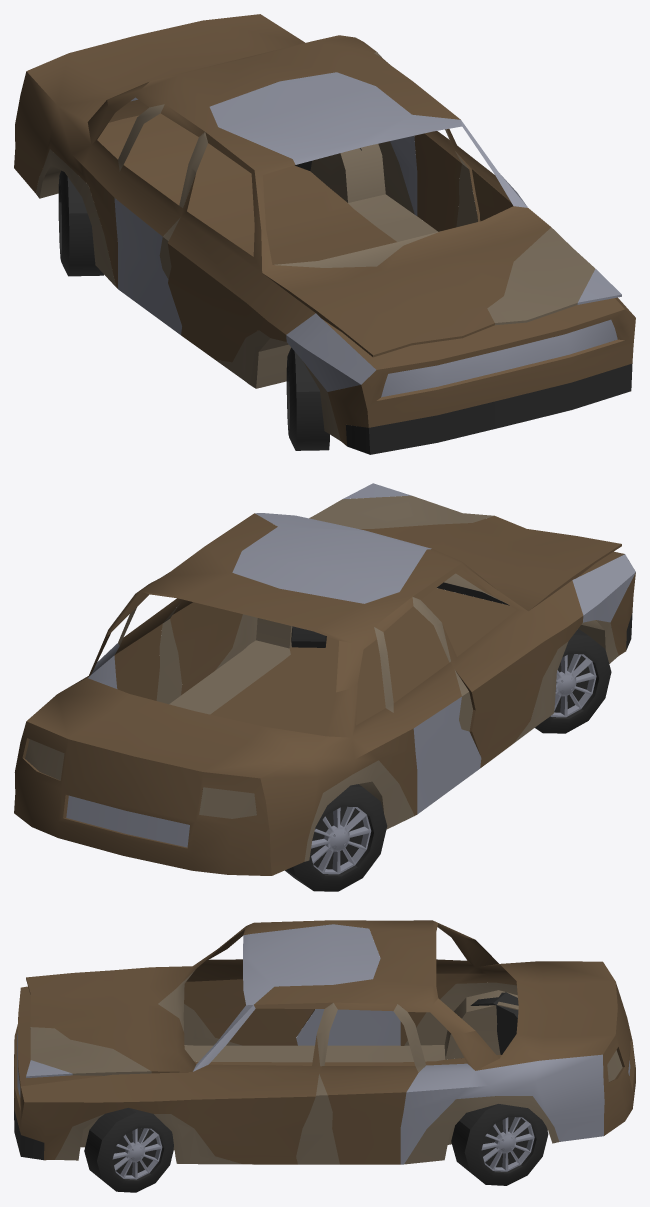
The model's file is Debris_BrokenCar.glb.
3 views of the same model, one above another, from view 1: azimuth 30°, elevation 25°; view 2: azimuth 150°, elevation 25°; view 3: azimuth 270°, elevation 25° (orthographic). The views are drawn at different scales.
Visible parts, largest first — view 1: Debris_BrokenCar; view 2: Debris_BrokenCar; view 3: Debris_BrokenCar.
Part boxes in pixels (x1=…): Debris_BrokenCar: x1=14, y1=14, x2=635, y2=454; Debris_BrokenCar: x1=14, y1=483, x2=635, y2=891; Debris_BrokenCar: x1=14, y1=920, x2=635, y2=1192.
Size of the model in its own units: 2.64 by 1.76 by 5.49.
